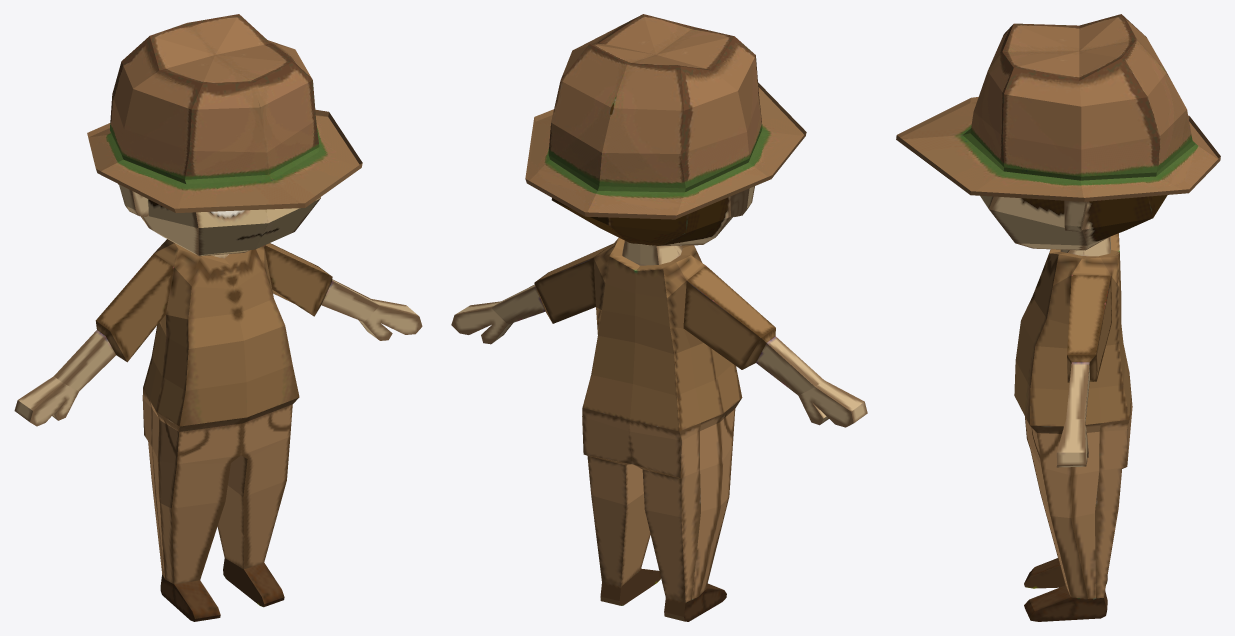
The model's file is Player.fbx.
3 views of the same model, side by side, from view 1: azimuth 30°, elevation 25°; view 2: azimuth 150°, elevation 25°; view 3: azimuth 270°, elevation 25° (orthographic). The views are drawn at different scales.
Parts seen in each view (by area): view 1: Hat, Player; view 2: Hat, Player; view 3: Hat, Player.
Part boxes in pixels (box(x1,y1,x2,y2)): Hat: box(14, 184, 422, 621); Player: box(87, 14, 362, 212); Hat: box(451, 103, 867, 621); Player: box(525, 14, 806, 219); Hat: box(980, 195, 1167, 621); Player: box(896, 14, 1220, 201).
Bounding box in the file's own units: 182 × 245 × 128.
